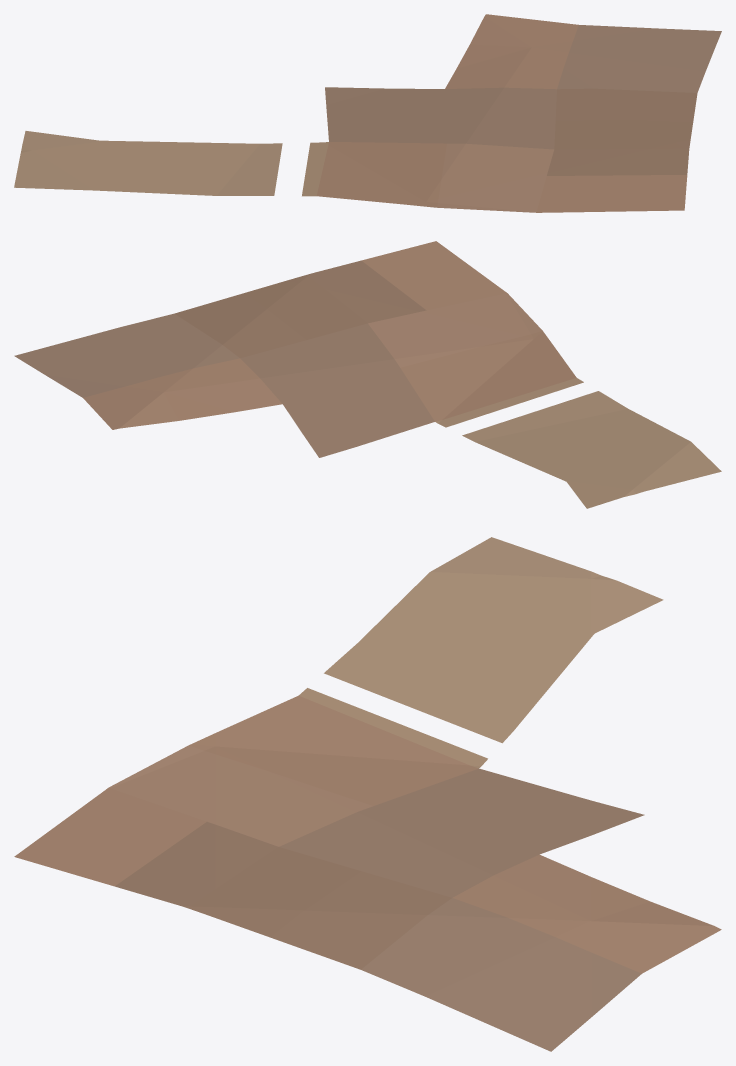
Rendered from farm_-27_-32_soil.glb.
3 renders of one model, top to bottom at view 1: azimuth 30°, elevation 25°; view 2: azimuth 150°, elevation 25°; view 3: azimuth 270°, elevation 25°, orthographic. The views are drawn at different scales.
Visible parts, largest first — view 1: geometry_0; view 2: geometry_0; view 3: geometry_0.
Part boxes in pixels (box(x1,y1,x2,y2)): geometry_0: box(14, 14, 721, 212); geometry_0: box(14, 241, 721, 508); geometry_0: box(14, 537, 721, 1051).
Size of the model in its own units: 234 by 11.99 by 151.
